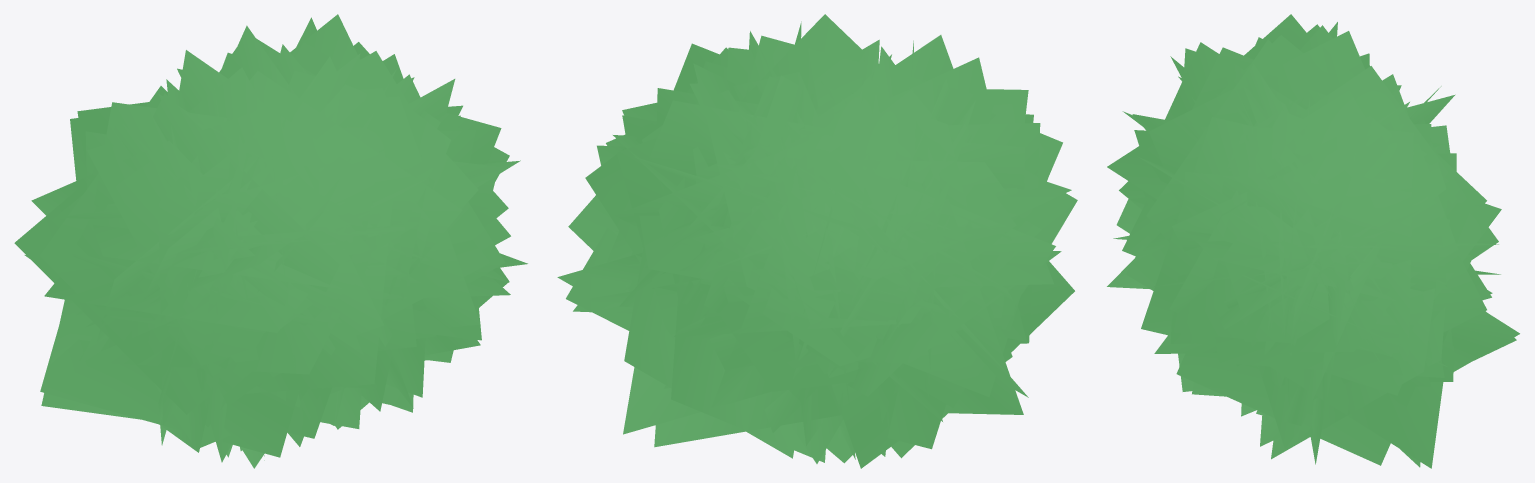
Rendered from leaf_0.glb.
3 renders of one model, left to right at view 1: azimuth 30°, elevation 25°; view 2: azimuth 150°, elevation 25°; view 3: azimuth 270°, elevation 25°, orthographic. The views are drawn at different scales.
Parts seen in each view (by area): view 1: Leaf_01_LOD1; view 2: Leaf_01_LOD1; view 3: Leaf_01_LOD1.
Boxes of the visible parts, x1,y1,x2,y2 form: Leaf_01_LOD1: (14,14,527,468); Leaf_01_LOD1: (557,14,1077,468); Leaf_01_LOD1: (1107,14,1519,468).
Bounding box in the file's own units: 1.33 × 1.14 × 1.11.
